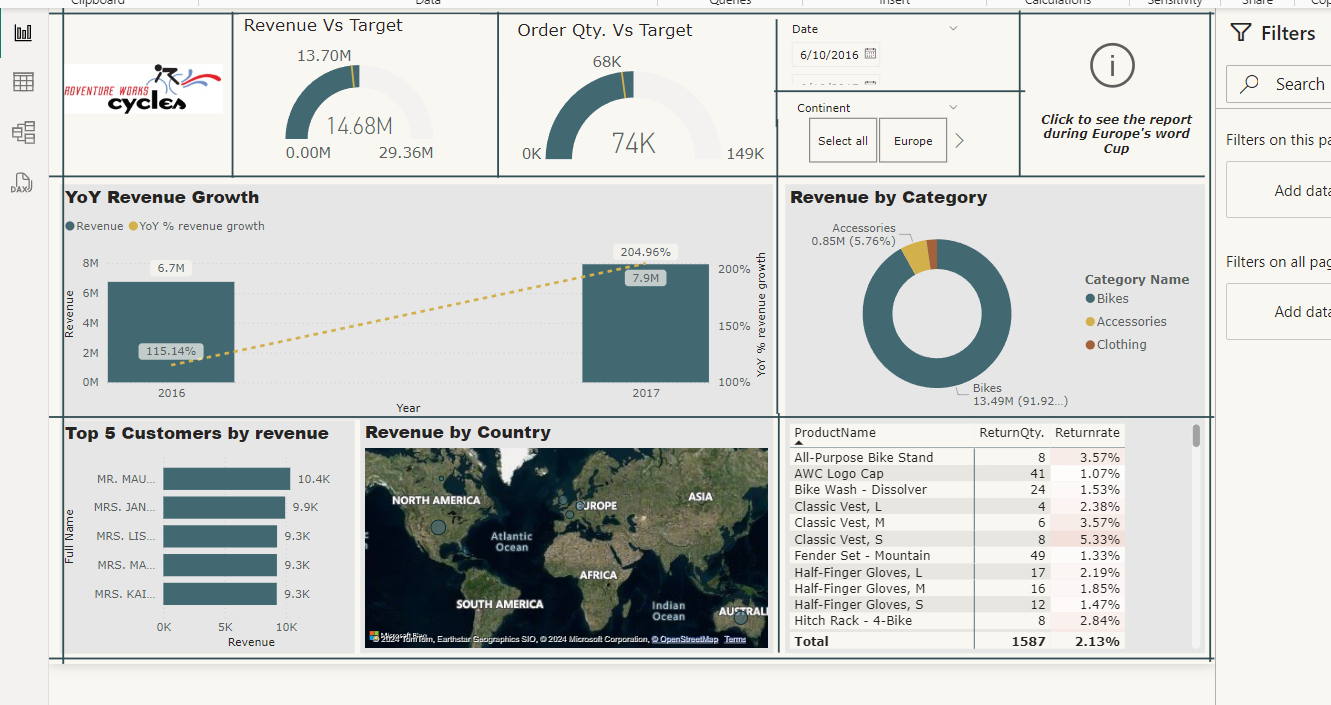

Layout of this report page (visuals, bound fields, positions):
{"tool":"powerbi","page":{"name":"Bookmark pane","canvas":[1280,720],"ordinal":2},"visuals":[{"type":"image","box":[12.1,0,183.3,177.3],"z":0},{"type":"lineStackedColumnComboChart","title":"YoY Revenue Growth","fields":{"Category":["d-Calendar.Year"],"Y":["All Measures.Revenue"],"Y2":["All Measures.YoY % revenue growth"]},"box":[12.1,193,782.7,258.1],"z":1000},{"type":"donutChart","title":"Revenue by Category ","fields":{"Y":["All Measures.Revenue"],"Category":["d-ProductCategories.Category Name"]},"box":[808,193,460.7,258.1],"z":2000},{"type":"shape","box":[794.8,12.1,8.4,118.2],"z":3000},{"type":"shape","box":[0,446.2,1279.6,6],"z":4000},{"type":"shape","box":[0,177.3,1268.7,15.7],"z":5000},{"type":"barChart","title":"Top 5 Customers by revenue","fields":{"Y":["All Measures.Revenue"],"Category":["d-Customers.Full Name"]},"box":[12.1,452.3,323.2,255.7],"z":6000},{"type":"shape","box":[0,707.9,1279.6,12.1],"z":7000},{"type":"shape","box":[0,0,1279.6,12.1],"z":8000},{"type":"shape","box":[1268.7,3.6,10.9,714],"z":9000},{"type":"shape","box":[10,0,12.1,720],"z":10000},{"type":"map","fields":{"Category":["d-Territories.Country"],"Size":["All Measures.Revenue"]},"box":[341.3,451.1,453.5,256.9],"z":11000},{"type":"shape","box":[794.8,445,13.3,262.9],"z":12000},{"type":"pivotTable","fields":{"Rows":["d-Products.ProductName"],"Values":["All Measures.Total return Qty.","All Measures.Return rate"]},"box":[808,451.1,460.7,256.9],"z":13000},{"type":"gauge","title":"Revenue Vs Target","fields":{"Y":["All Measures.Revenue"],"TargetValue":["All Measures.Target Revenue"]},"box":[208.9,7,264.6,171.3],"z":14000},{"type":"shape","box":[195.4,3.6,13.3,182.1],"z":15000},{"type":"shape","box":[486,3.6,14.5,182.1],"z":16000},{"type":"shape","box":[796,121.8,7.2,323.2],"z":17000},{"type":"gauge","title":"Order Qty. Vs Target","fields":{"Y":["All Measures.Total Order Qty."],"TargetValue":["All Measures.Target Order Qty"]},"box":[508.9,12.1,285.8,165.2],"z":18000},{"type":"slicer","fields":{"Values":["d-Calendar.Date"]},"box":[802.3,11.1,207.5,72.4],"z":19000},{"type":"slicer","fields":{"Values":["d-Territories.Continent"]},"box":[807.8,97.5,202,79.4],"z":20000},{"type":"shape","box":[795.3,85,275.8,12.5],"z":21000},{"type":"shape","box":[1058.5,2.8,15.3,182.5],"z":22000},{"type":"actionButton","box":[1136.5,32,80.8,62.7],"z":23000},{"type":"textbox","box":[1073.9,108.6,195,68.2],"z":24000}]}

Visuals, with their boxes on the page's 1280x720 design canvas (x1, y1, x2, y2). These are canvas units, not pixel positions in the 1331x705 screenshot, which may show the page scaled, cropped or inside an application window:
image: <box>12,0,195,177</box>
"YoY Revenue Growth" lineStackedColumnComboChart: <box>12,193,795,451</box>
"Revenue by Category " donutChart: <box>808,193,1269,451</box>
shape: <box>795,12,803,130</box>
shape: <box>0,446,1280,452</box>
shape: <box>0,177,1269,193</box>
"Top 5 Customers by revenue" barChart: <box>12,452,335,708</box>
shape: <box>0,708,1280,720</box>
shape: <box>0,0,1280,12</box>
shape: <box>1269,4,1280,718</box>
shape: <box>10,0,22,720</box>
map - d-Territories.Country x All Measures.Revenue: <box>341,451,795,708</box>
shape: <box>795,445,808,708</box>
pivotTable - d-Products.ProductName x All Measures.Total return Qty.: <box>808,451,1269,708</box>
"Revenue Vs Target" gauge: <box>209,7,474,178</box>
shape: <box>195,4,209,186</box>
shape: <box>486,4,500,186</box>
shape: <box>796,122,803,445</box>
"Order Qty. Vs Target" gauge: <box>509,12,795,177</box>
slicer - d-Calendar.Date: <box>802,11,1010,84</box>
slicer - d-Territories.Continent: <box>808,98,1010,177</box>
shape: <box>795,85,1071,98</box>
shape: <box>1058,3,1074,185</box>
actionButton: <box>1136,32,1217,95</box>
textbox: <box>1074,109,1269,177</box>
